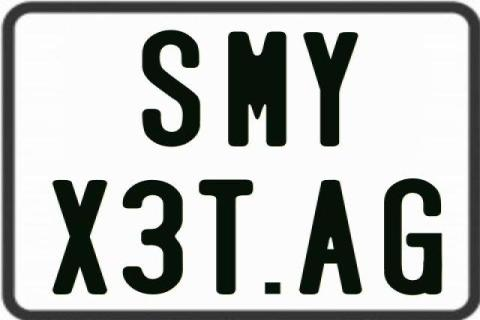0: (120, 179, 184, 293)
A: (298, 179, 363, 297)
G: (382, 177, 444, 295)
M: (228, 31, 291, 146)
S: (142, 31, 204, 147)
T: (197, 178, 257, 296)
X: (51, 179, 110, 295)
Y: (303, 31, 358, 146)
